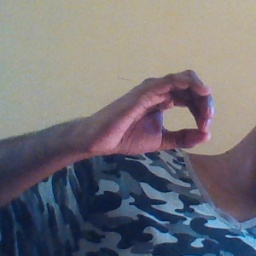O: (93, 64, 216, 159)
